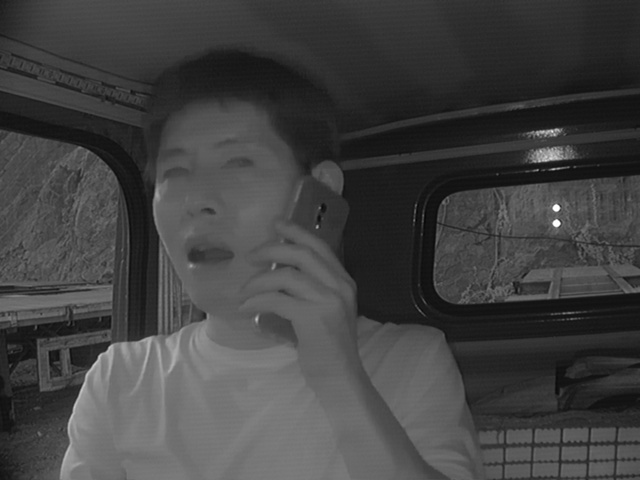hand: (253, 224, 361, 368)
